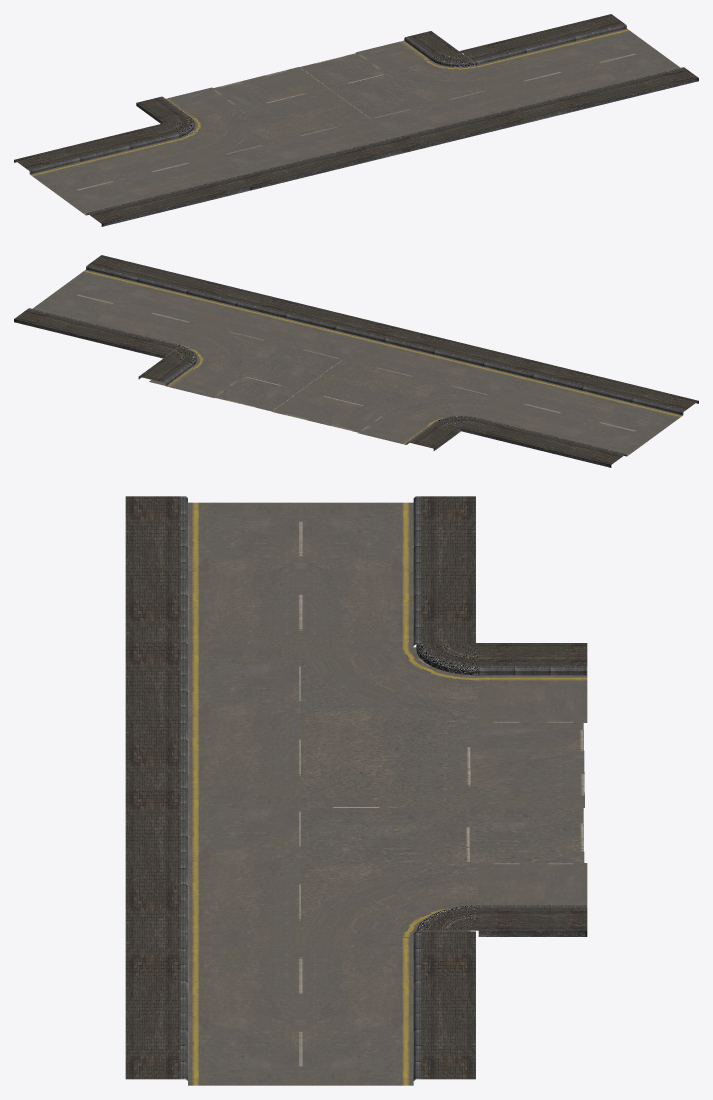
Rendered from T字路.fbx.
The picture shows the model from 3 angles, top to bottom: view 1: azimuth 30°, elevation 25°; view 2: azimuth 150°, elevation 25°; view 3: azimuth 270°, elevation 25°; orthographic projection. The views are drawn at different scales.
Parts seen in each view (by area): view 1: polySurface210; view 2: polySurface210; view 3: polySurface210.
Boxes of the visible parts, left/top/right/bottom form: polySurface210: left=14, top=14, right=698, bottom=226; polySurface210: left=14, top=255, right=698, bottom=467; polySurface210: left=125, top=496, right=587, bottom=1085.
Size of the model in its own units: 76.67 by 0.4032 by 25.64.
